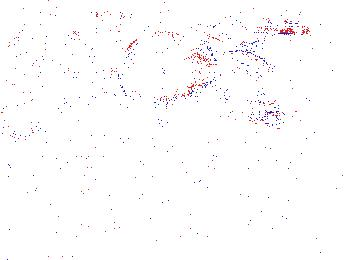moon jellyfish: (119, 31, 216, 103), (8, 31, 99, 104), (1, 61, 80, 141), (206, 51, 279, 107)
